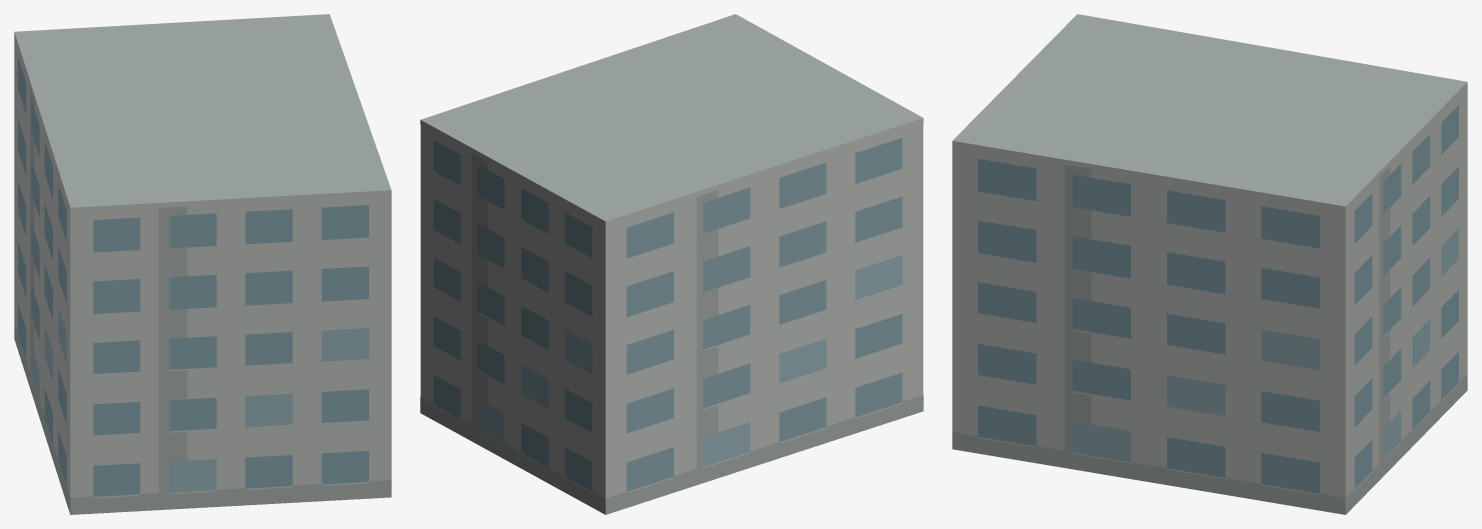
The model's file is survey-upis-32959273.glb.
3 views of the same model, side by side, from view 1: azimuth 30°, elevation 25°; view 2: azimuth 150°, elevation 25°; view 3: azimuth 270°, elevation 25° (orthographic). The views are drawn at different scales.
Visible parts, largest first — view 1: survey-upis-32959273.tmp; view 2: survey-upis-32959273.tmp; view 3: survey-upis-32959273.tmp.
Boxes of the visible parts, x1,y1,x2,y2 form: survey-upis-32959273.tmp: [14, 14, 391, 514]; survey-upis-32959273.tmp: [420, 14, 923, 514]; survey-upis-32959273.tmp: [952, 14, 1467, 514].
Bounding box in the file's own units: 19.02 × 14.2 × 21.51.
